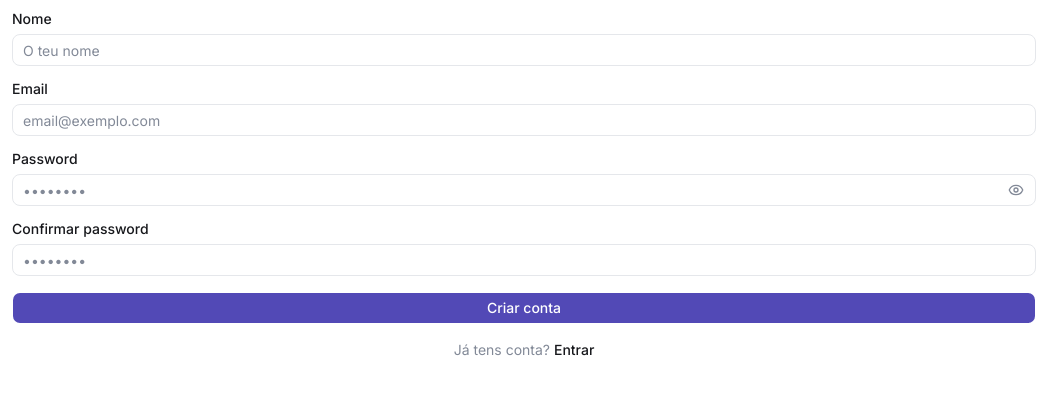
Scenario: RegisterForm › mostra erro e não submete quando as passwords não coincidem
In the field with test id "name-input": {"x": 524, "y": 50} [12, 34, 1036, 66], type "João"
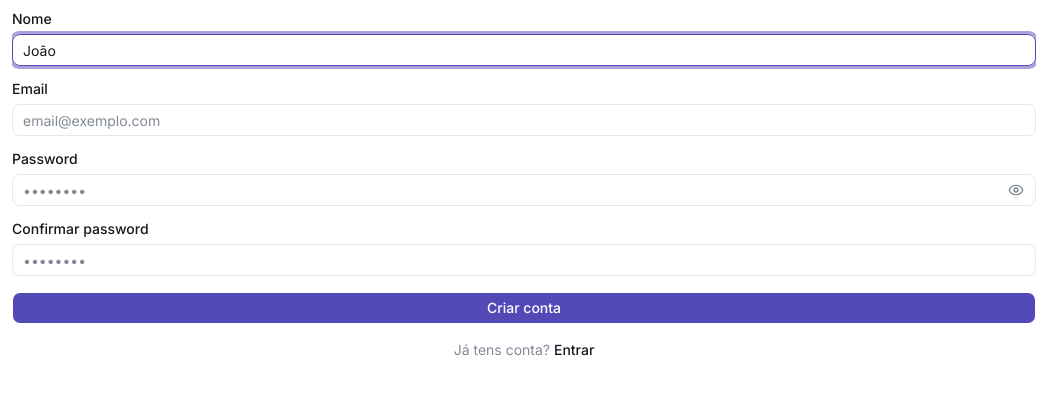
In the field with test id "email-input": {"x": 524, "y": 120} [12, 104, 1036, 136], type "joao@example.com"
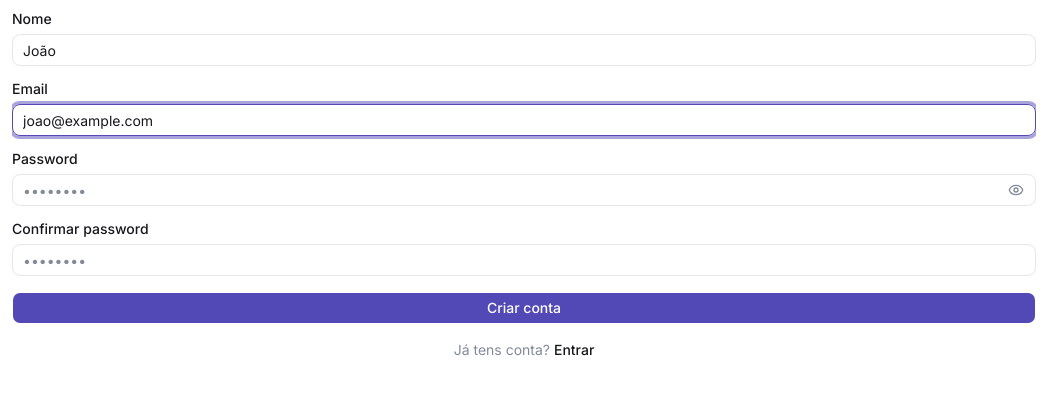
In the password field with test id "password-input": {"x": 524, "y": 190} [12, 174, 1036, 206], type "secret123"
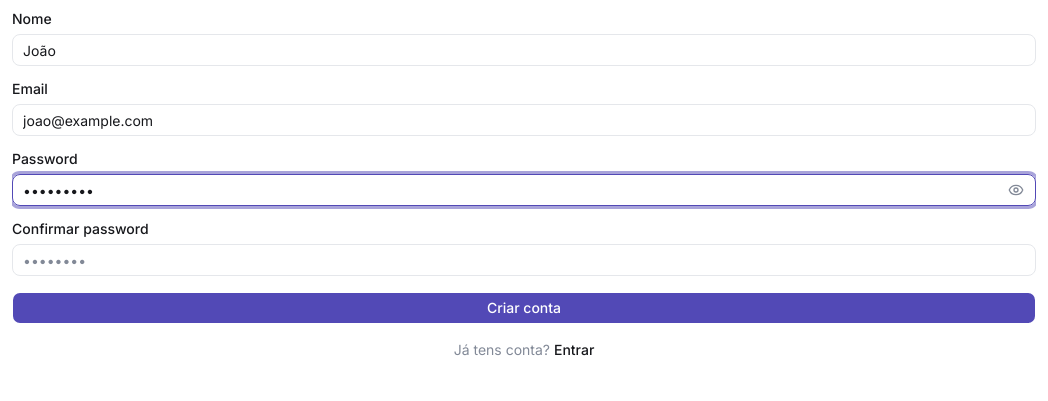
In the password field with test id "confirm-password-input": {"x": 524, "y": 260} [12, 244, 1036, 276], type "diferente"
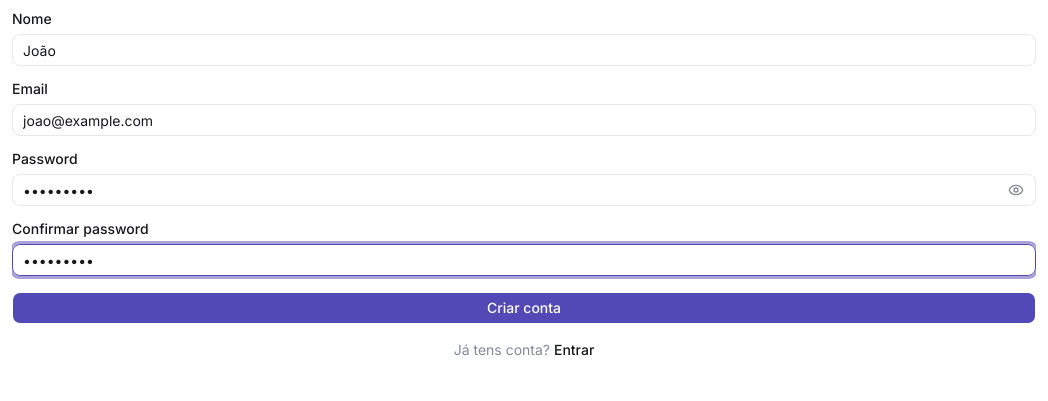
Click the button with test id "submit-button": {"x": 524, "y": 308} [12, 292, 1036, 324]
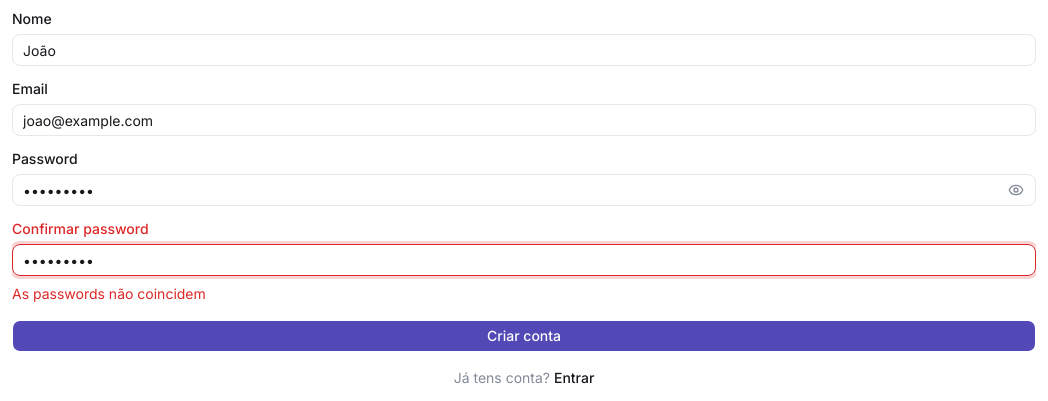
Check: the text "As passwords não coincidem" is shown, box [12, 285, 206, 302]
